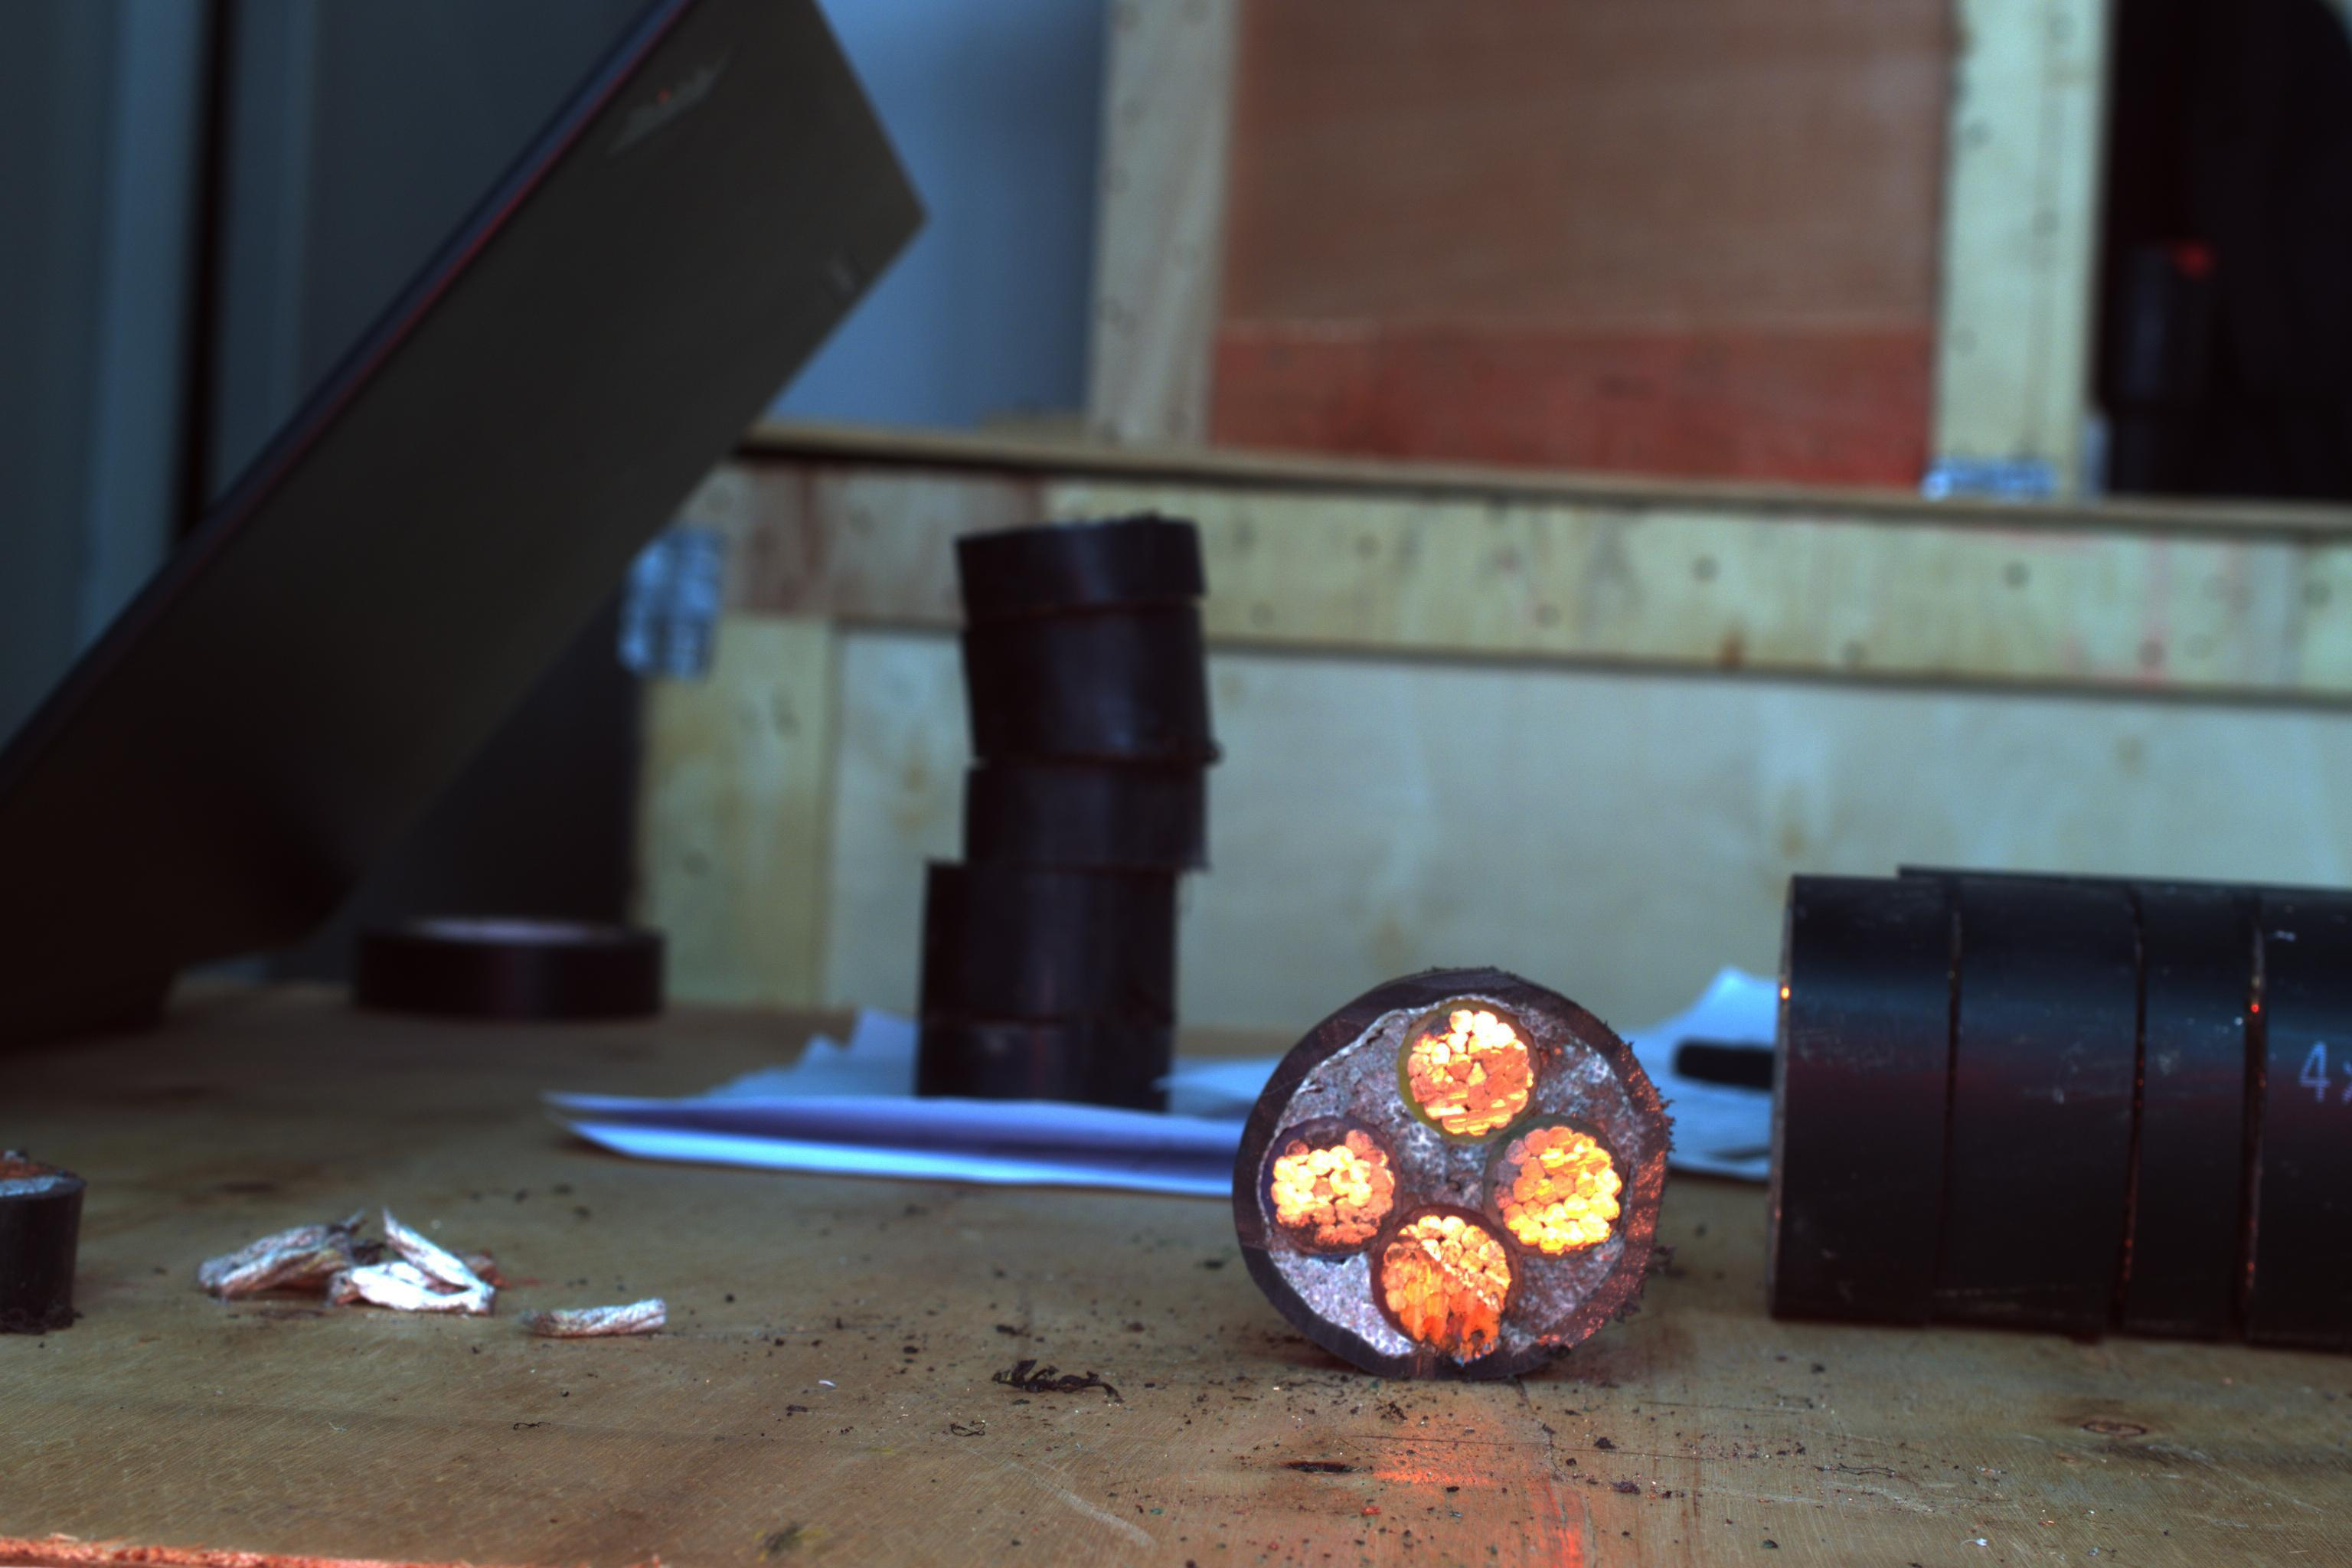YJV_0.6_1kV_4x120: (1230, 968, 1668, 1388)
